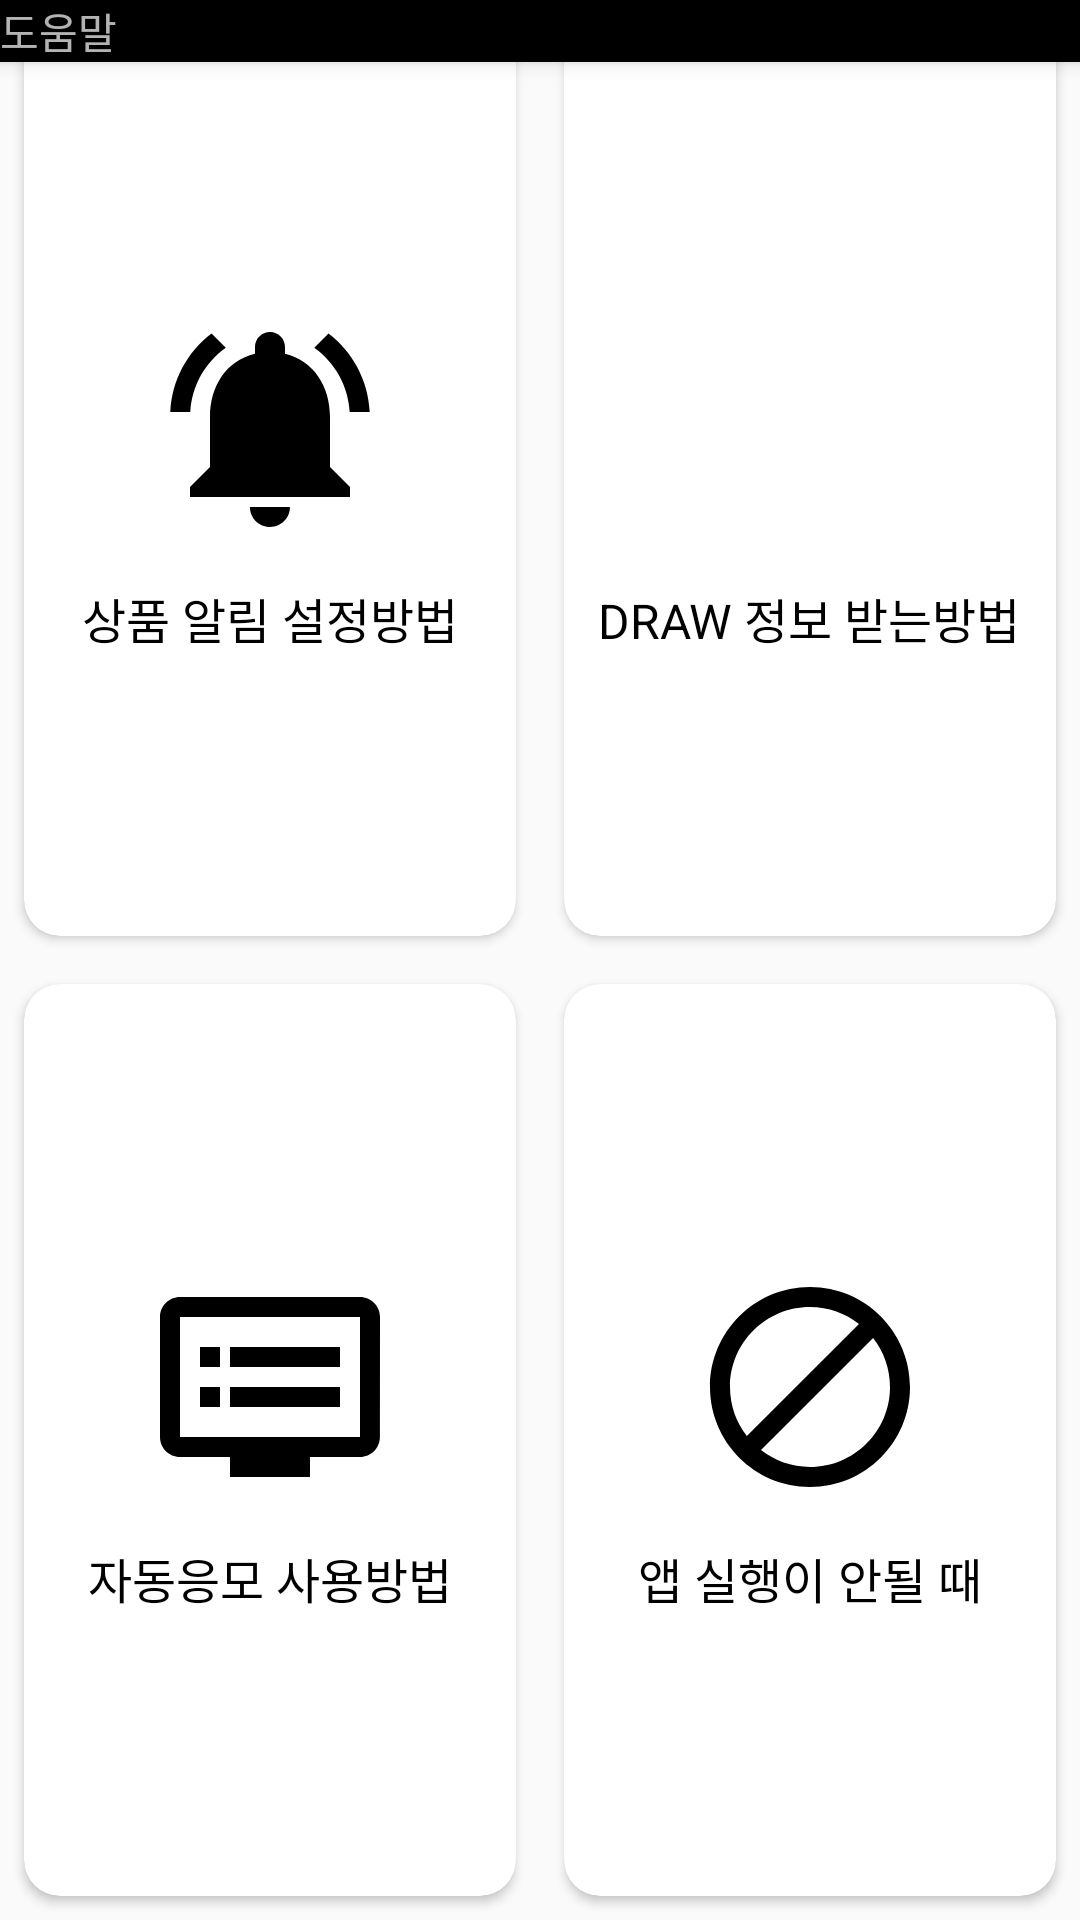

Named icons in this screenshot (1080 × 1920) and their bounding boxes, (x1, y1, x2, y2):
block: (709, 1287, 910, 1487)
notifications: (170, 332, 370, 527)
